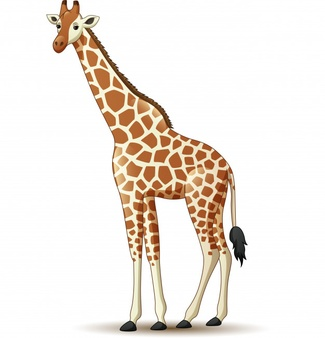Jirafa: (35, 1, 264, 333)
